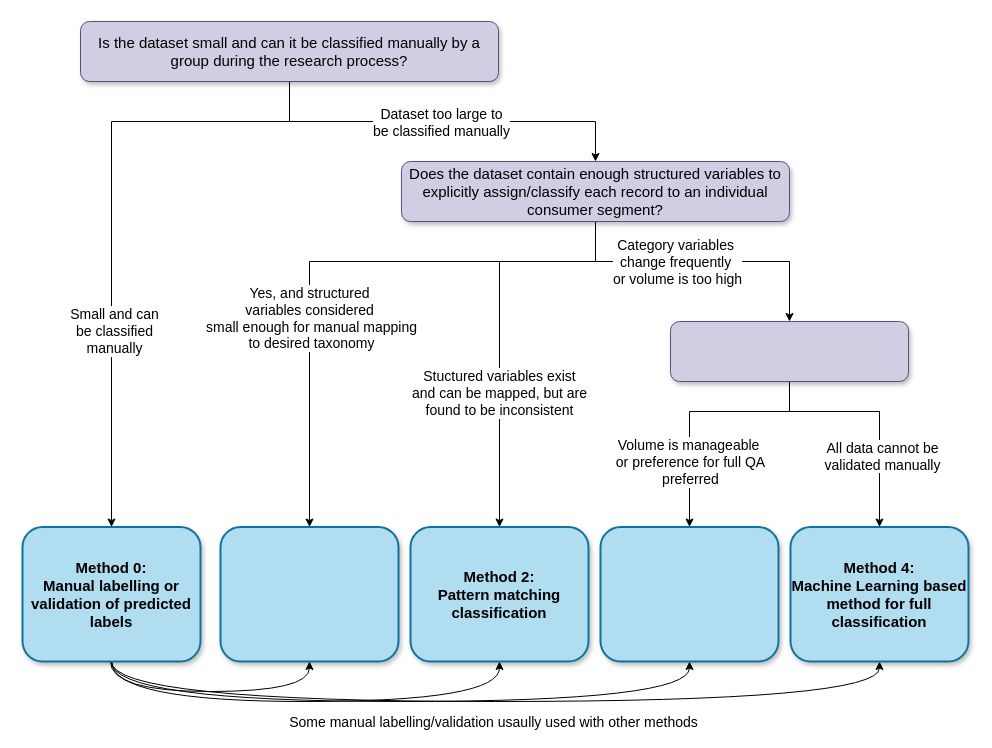
Some shapes in this 992 by 748 pixel diagram are drawn without their labels. Here are the shapes that lost their labels. From the top down, the centre of each, then its label:
At point (790, 352): "Is volume excessive to validate each unique record manually?".
At point (310, 595): "Method 1: Attribute based classification".
At point (690, 595): "Method 3: Recommendation / machine-assisted classification".
